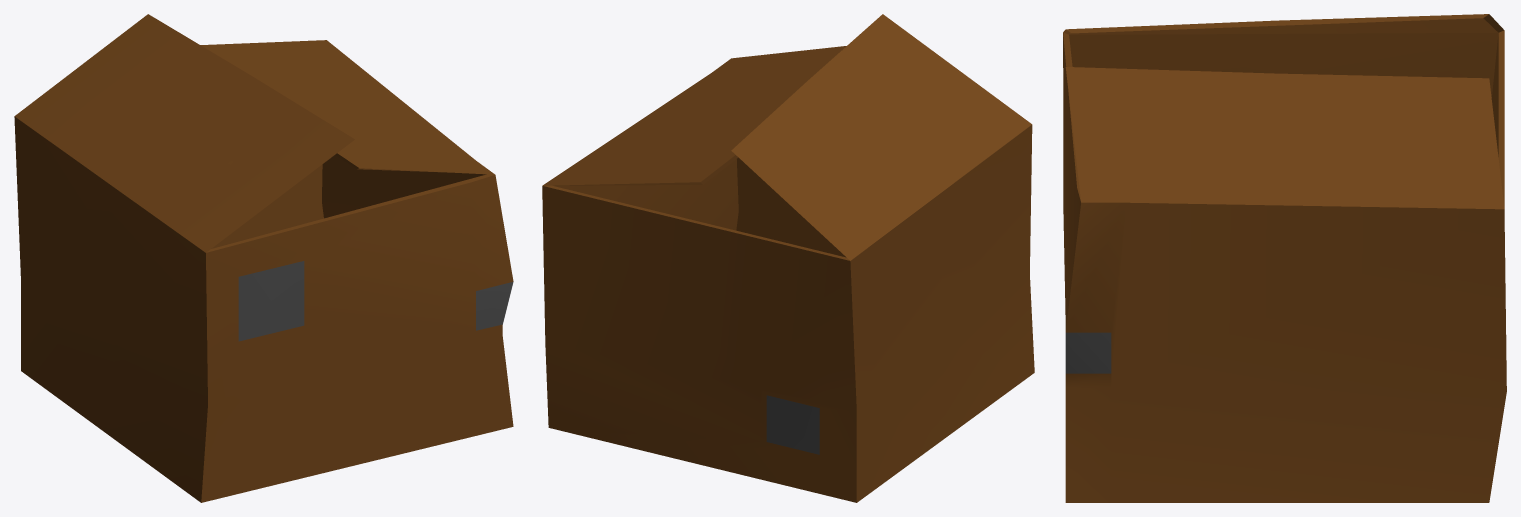
The model's file is decor_box1.fbx.
3 views of the same model, side by side, from view 1: azimuth 30°, elevation 25°; view 2: azimuth 150°, elevation 25°; view 3: azimuth 270°, elevation 25° (orthographic). The views are drawn at different scales.
Visible parts, largest first — view 1: decor_box1; view 2: decor_box1; view 3: decor_box1.
Part boxes in pixels (<box>): decor_box1: <box>14,14,513,502</box>; decor_box1: <box>542,14,1034,502</box>; decor_box1: <box>1063,14,1506,502</box>.
Size of the model in its own units: 46.29 by 46.29 by 48.49.
